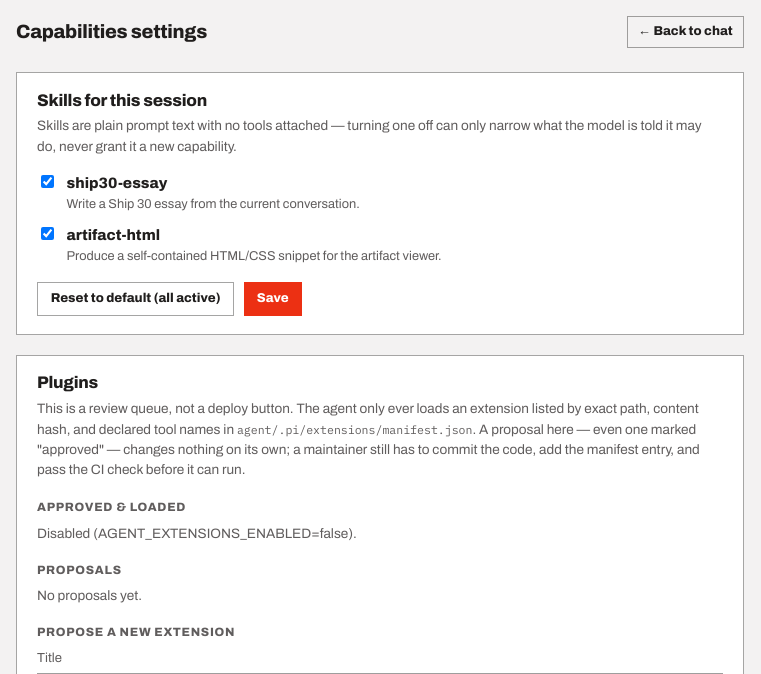
CapabilitiesSettings (root CLAUDE.md invariant #4, made editable) › toggling a skill off then Save sends the narrowed allowlist via PATCH — never a new tool
Click the checkbox labelled "artifact-html" at (48, 234), box [41,227,54,240]
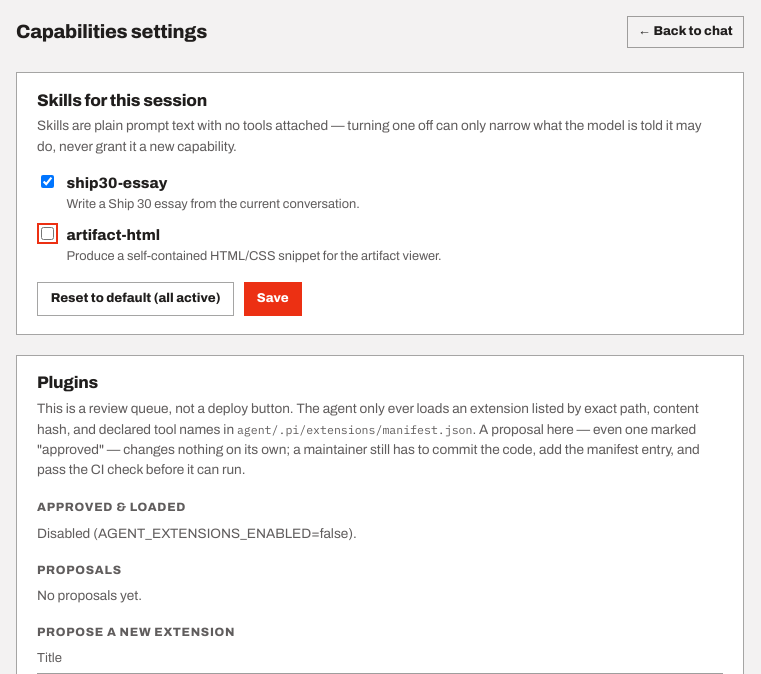
Click the button "Save" at (273, 299), box [244,282,302,316]
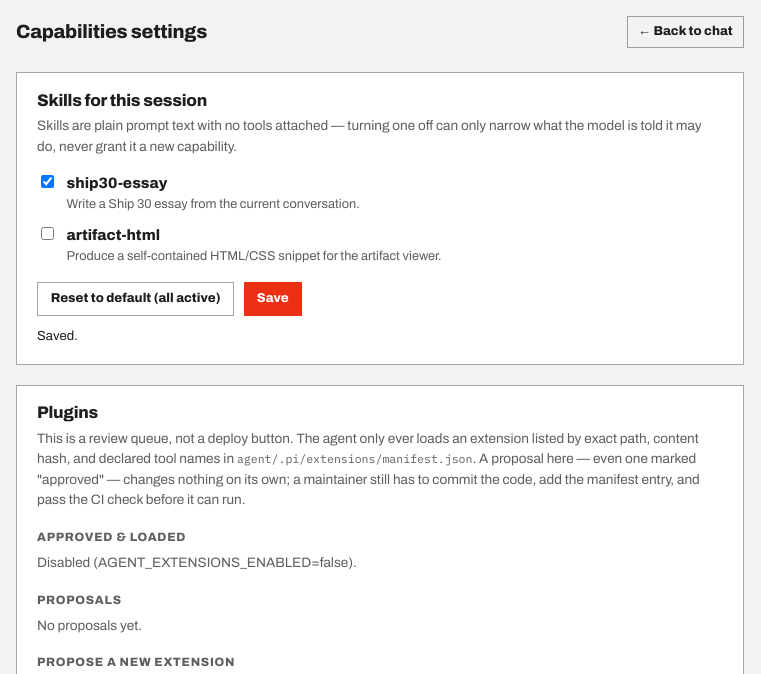
Expected: the message shows "Saved", [37,328,78,343]
